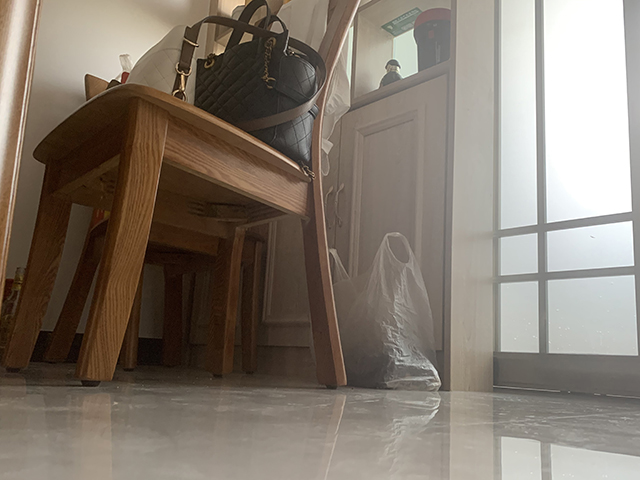cabinet: (265, 58, 494, 387)
stool: (1, 2, 360, 391), (40, 73, 270, 376)
